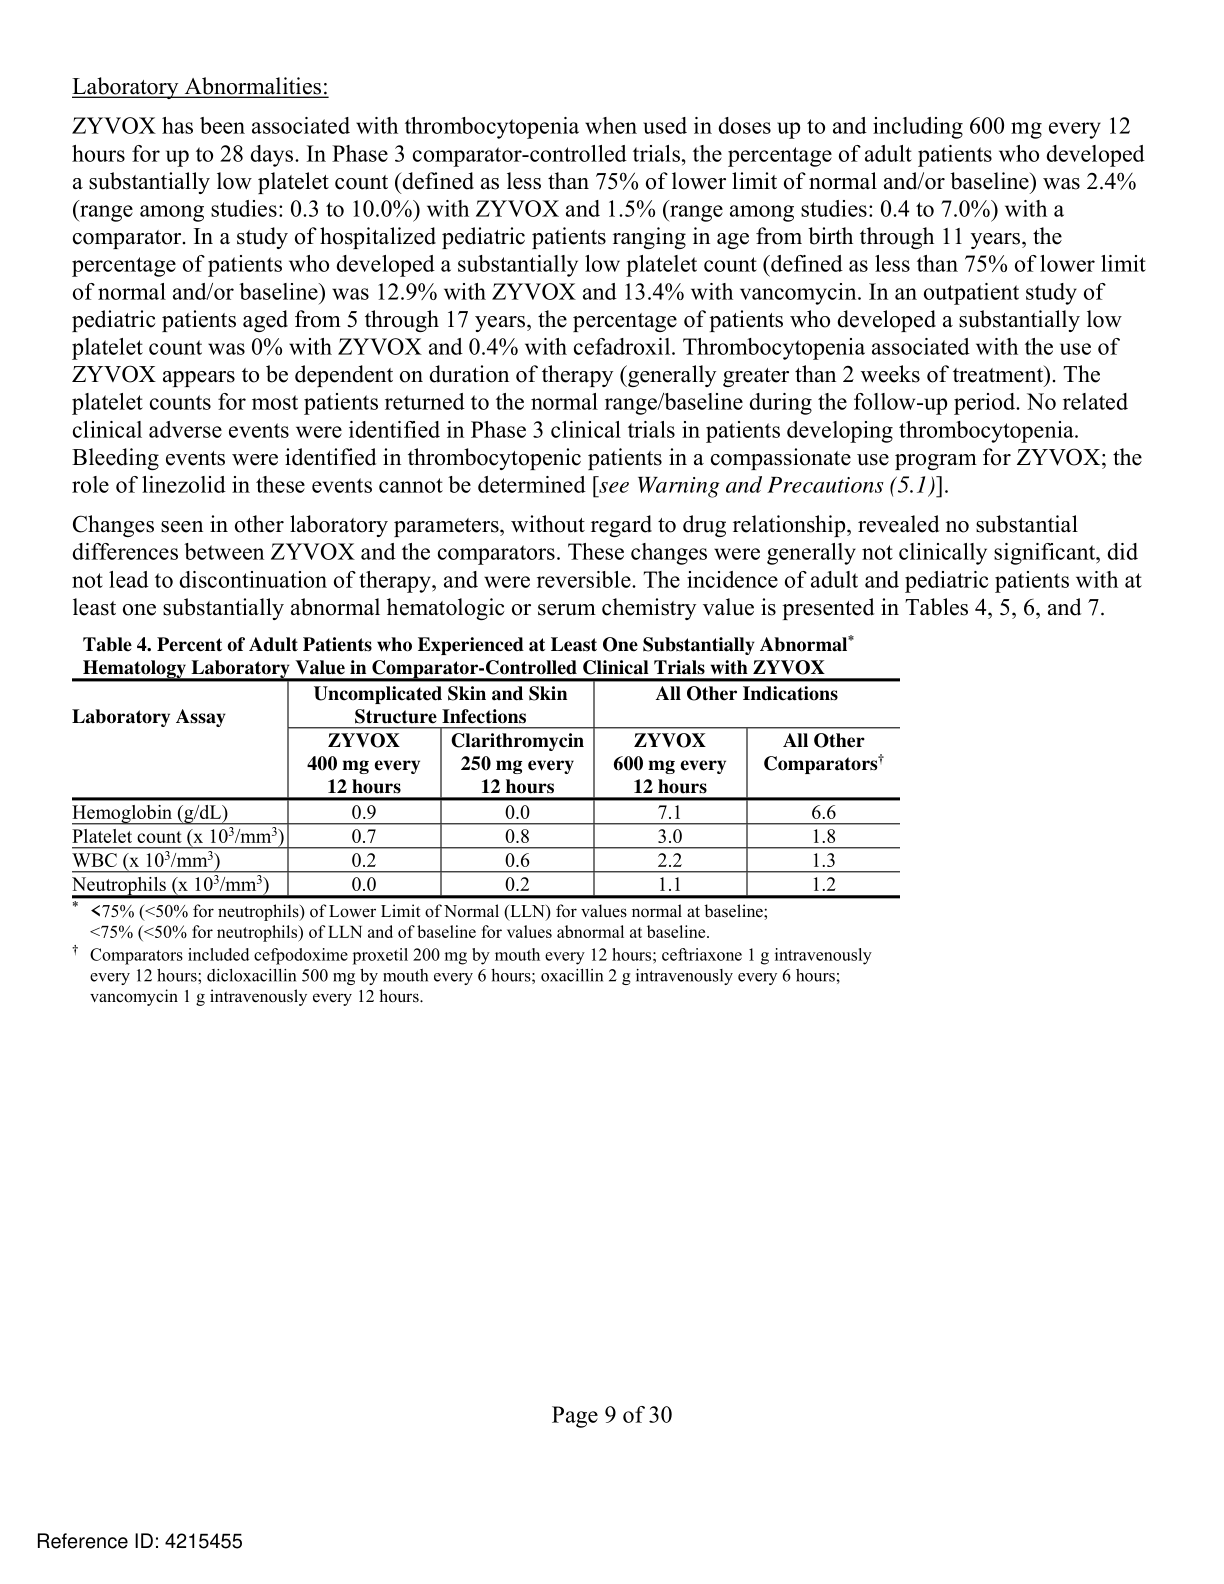partial_lined_merged_cells: (69, 678, 903, 900)
